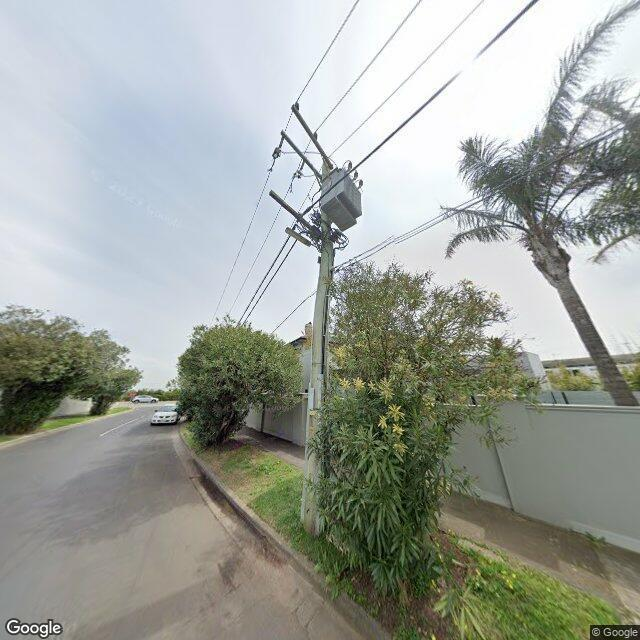HV-transmission: (295, 101, 317, 140)
crossarm: (292, 105, 332, 169), (280, 130, 322, 182), (269, 190, 312, 230)
streetlight: (285, 227, 322, 253)
timber-pole: (303, 158, 335, 537)
transformer: (321, 162, 363, 232)
